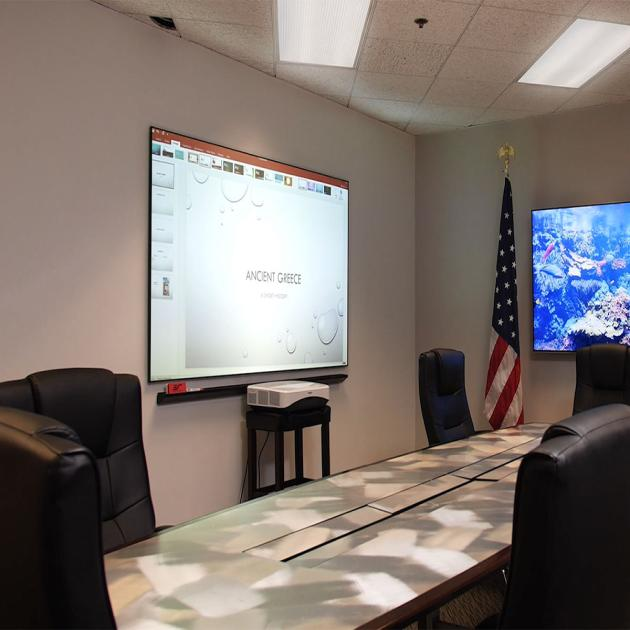desk: (114, 403, 554, 629)
projector: (142, 127, 358, 427), (522, 192, 630, 384)
